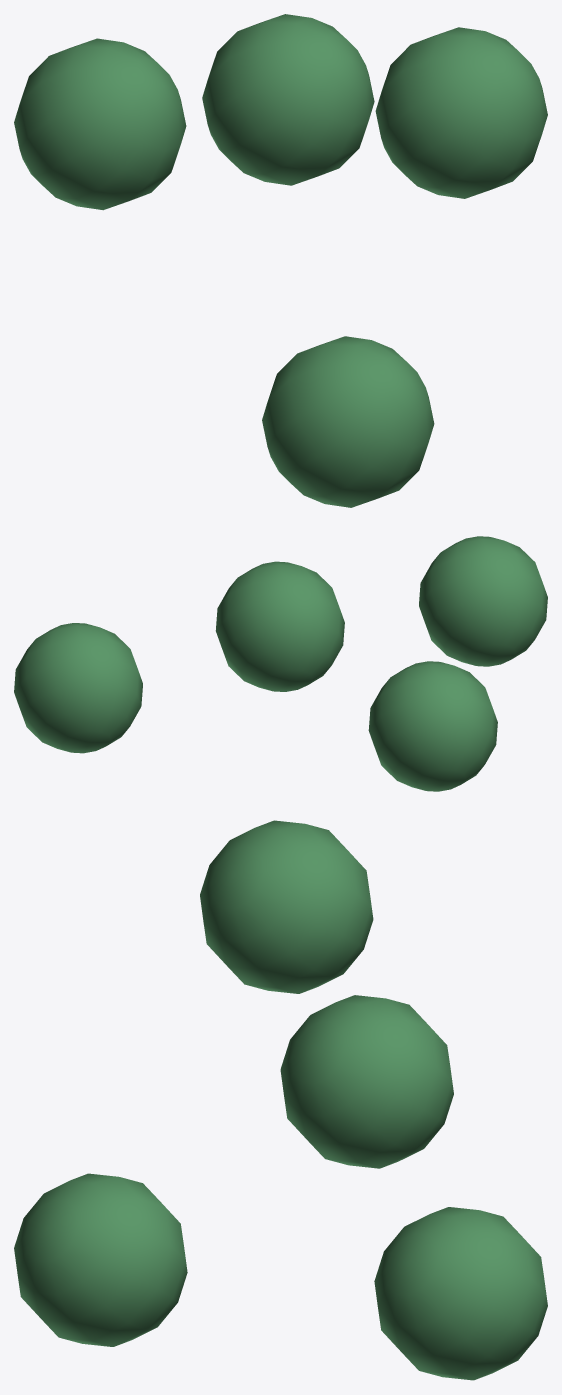
3 renders of one model, top to bottom at view 1: azimuth 30°, elevation 25°; view 2: azimuth 150°, elevation 25°; view 3: azimuth 270°, elevation 25°, orthographic. The views are drawn at different scales.
Parts seen in each view (by area): view 1: 右侧颈外侧深下淋巴结; view 2: 右侧颈外侧深下淋巴结; view 3: 右侧颈外侧深下淋巴结.
Part boxes in pixels (left/top/right/bottom): 右侧颈外侧深下淋巴结: left=14, top=14, right=547, bottom=507; 右侧颈外侧深下淋巴结: left=14, top=536, right=547, bottom=791; 右侧颈外侧深下淋巴结: left=14, top=820, right=547, bottom=1380.
Bounding box in the file's own units: 0.0153 × 0.0104 × 0.0116.
